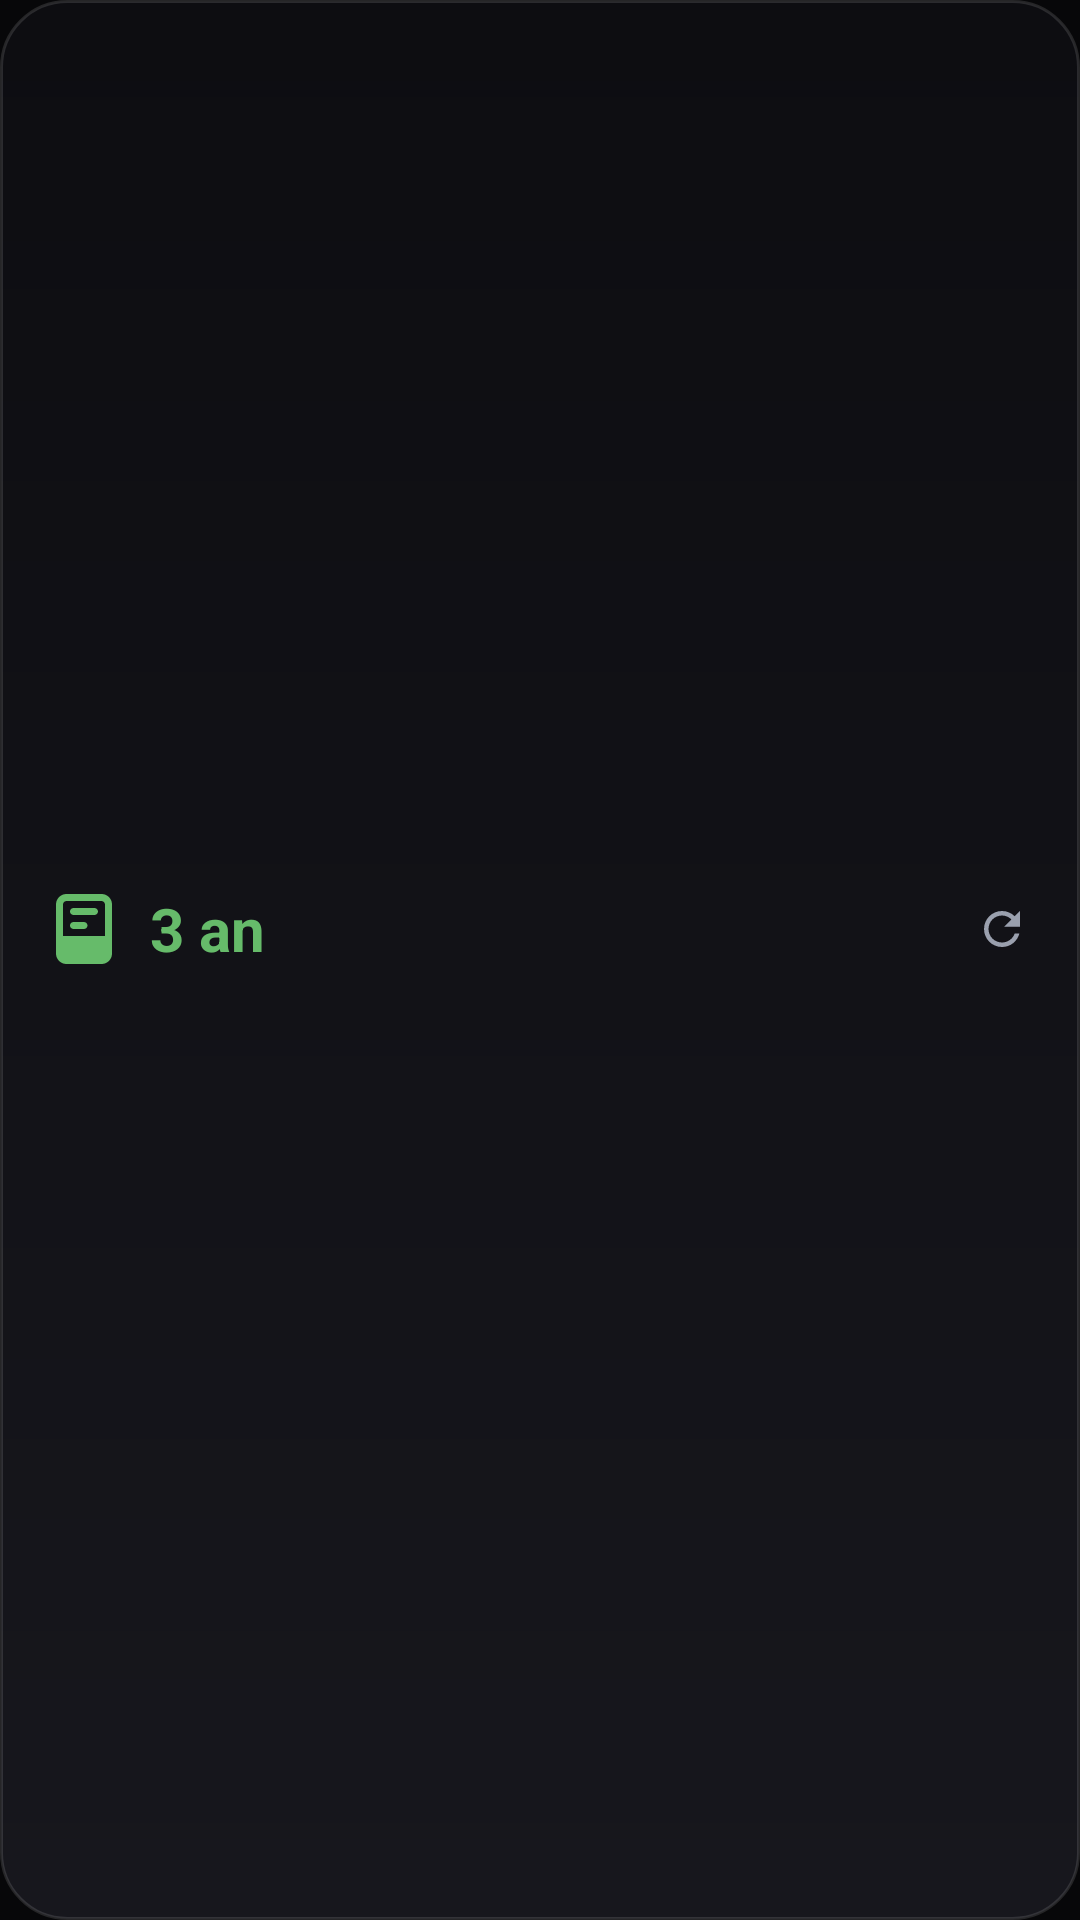

Where icons sit on this 1080px x 1920px app screen, as {"left": x1, "top": y1, "right": x2, "bottom": y2}:
Aktualisieren: {"left": 984, "top": 911, "right": 1020, "bottom": 947}
device: {"left": 56, "top": 894, "right": 112, "bottom": 964}
